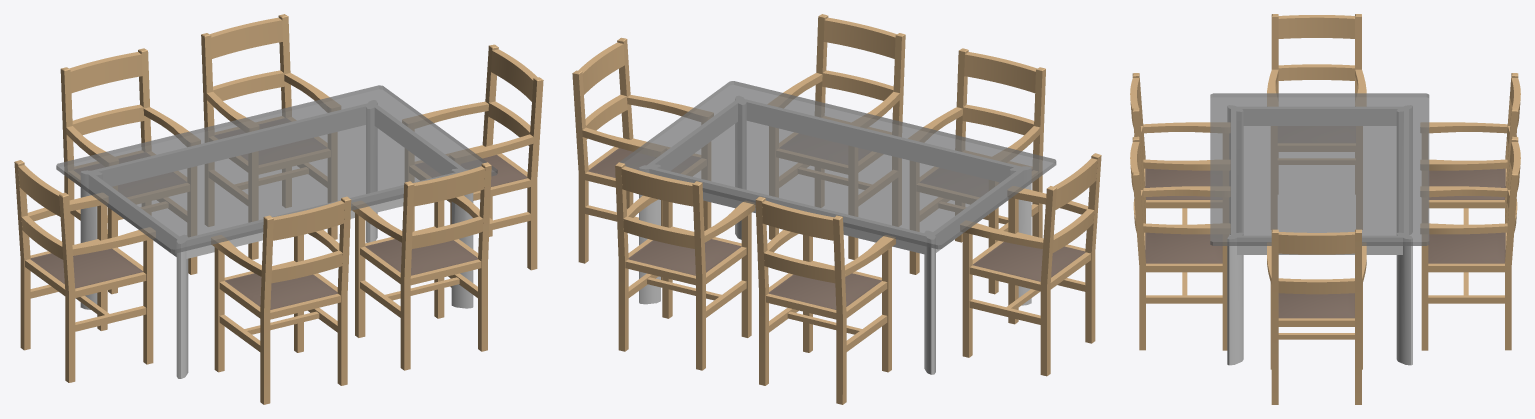
Rendered from Table Chairs.obj.
3 views of the same model, side by side, from view 1: azimuth 30°, elevation 25°; view 2: azimuth 150°, elevation 25°; view 3: azimuth 270°, elevation 25° (orthographic). The views are drawn at different scales.
Visible parts, largest first — view 1: Mesh2 Group2 Model, Mesh1 Group1 Model, Mesh6 chair4 Model, Mesh5 chair3 Model, Mesh7 chair5 Model, Mesh4 chair2 Model, Mesh3 chair1 Model, Mesh8 chair6 Model; view 2: Mesh2 Group2 Model, Mesh1 Group1 Model, Mesh4 chair2 Model, Mesh3 chair1 Model, Mesh7 chair5 Model, Mesh5 chair3 Model, Mesh6 chair4 Model, Mesh8 chair6 Model; view 3: Mesh2 Group2 Model, Mesh1 Group1 Model, Mesh8 chair6 Model, Mesh7 chair5 Model, Mesh4 chair2 Model, Mesh5 chair3 Model, Mesh3 chair1 Model, Mesh6 chair4 Model.
Boxes of the visible parts, x1,y1,x2,y2 form: Mesh2 Group2 Model: (56, 85, 497, 253); Mesh1 Group1 Model: (80, 100, 473, 378); Mesh6 chair4 Model: (211, 196, 351, 404); Mesh5 chair3 Model: (351, 162, 491, 370); Mesh7 chair5 Model: (14, 160, 155, 382); Mesh4 chair2 Model: (201, 14, 340, 259); Mesh3 chair1 Model: (60, 48, 200, 294); Mesh8 chair6 Model: (402, 44, 543, 287); Mesh2 Group2 Model: (619, 81, 1056, 249); Mesh1 Group1 Model: (639, 96, 1031, 374); Mesh4 chair2 Model: (615, 162, 755, 370); Mesh3 chair1 Model: (755, 196, 895, 404); Mesh7 chair5 Model: (960, 153, 1101, 376); Mesh5 chair3 Model: (768, 14, 905, 259); Mesh6 chair4 Model: (908, 48, 1045, 294); Mesh8 chair6 Model: (572, 37, 713, 279); Mesh2 Group2 Model: (1210, 93, 1429, 245); Mesh1 Group1 Model: (1227, 105, 1412, 365); Mesh8 chair6 Model: (1267, 229, 1366, 404); Mesh7 chair5 Model: (1267, 14, 1366, 229); Mesh4 chair2 Model: (1420, 136, 1520, 350); Mesh5 chair3 Model: (1130, 136, 1230, 350); Mesh3 chair1 Model: (1420, 73, 1520, 224); Mesh6 chair4 Model: (1130, 73, 1230, 224).
Bounding box in the file's own units: 110 × 40.85 × 82.34.
